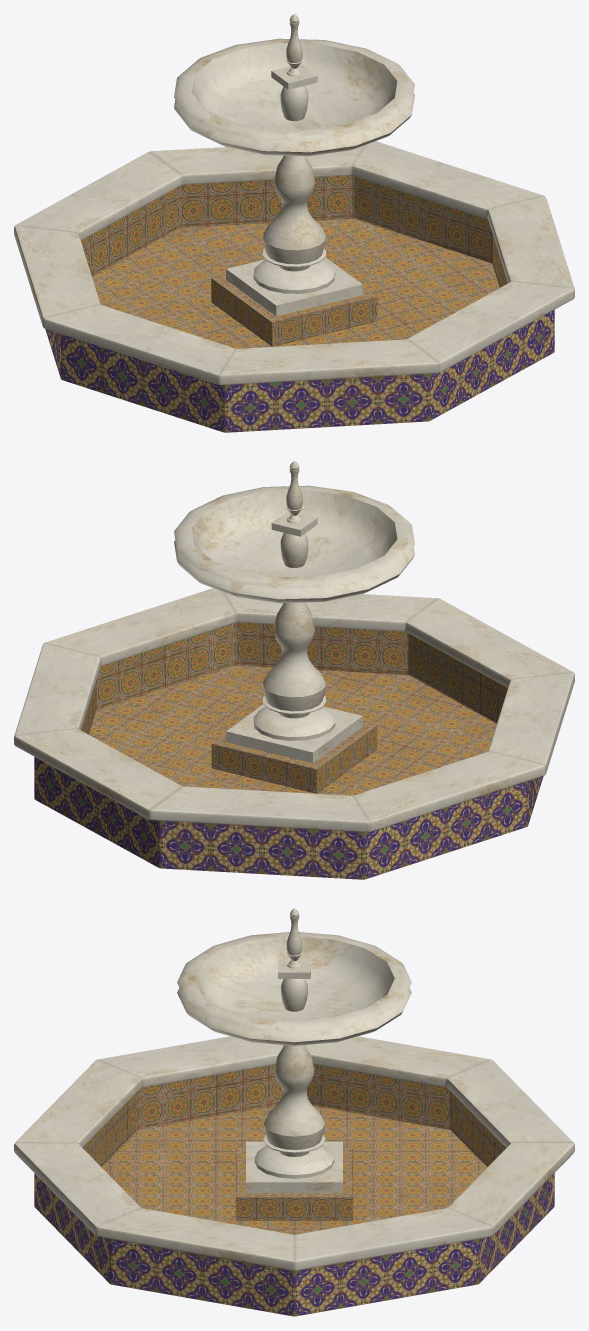
The model's file is patrick-fountain-large.glb.
3 views of the same model, one above another, from view 1: azimuth 30°, elevation 25°; view 2: azimuth 150°, elevation 25°; view 3: azimuth 270°, elevation 25° (orthographic). The views are drawn at different scales.
Visible parts, largest first — view 1: Model_Fountain_01; view 2: Model_Fountain_01; view 3: Model_Fountain_01.
Boxes of the visible parts, x1,y1,x2,y2 form: Model_Fountain_01: (14, 14, 574, 432); Model_Fountain_01: (14, 461, 574, 879); Model_Fountain_01: (14, 908, 574, 1316).
Size of the model in its own units: 2.38 by 1.4 by 2.38.
1 material, 1 textured.
